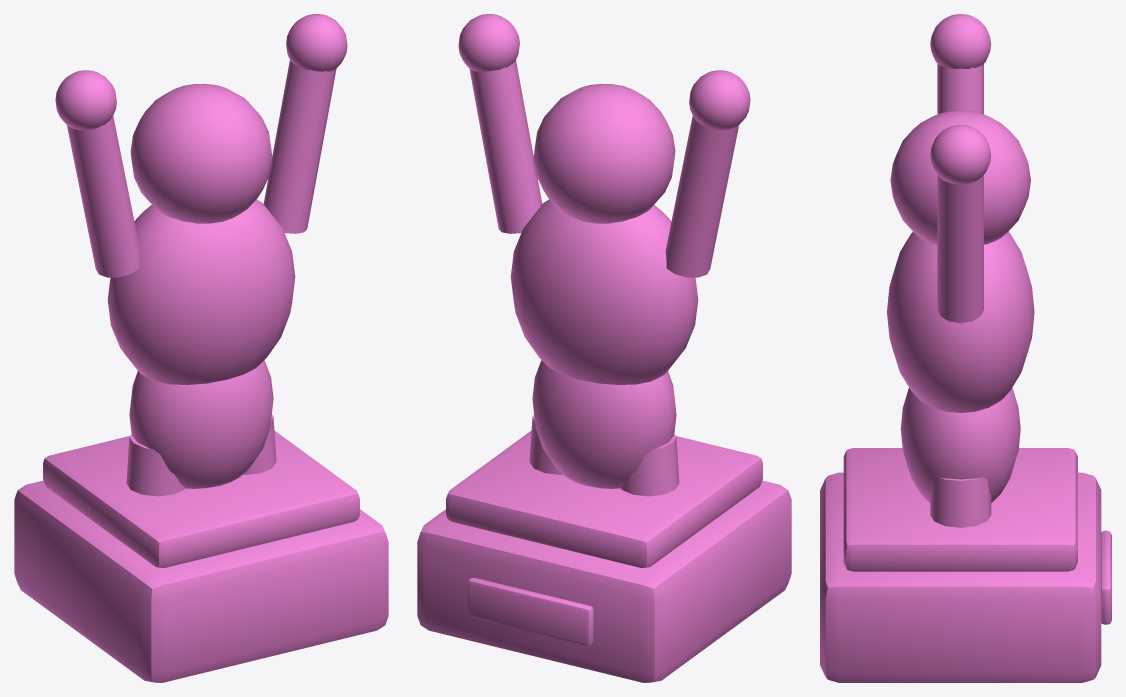
Rendered from Parcel_GoldStatue.fbx.
3 views of the same model, side by side, from view 1: azimuth 30°, elevation 25°; view 2: azimuth 150°, elevation 25°; view 3: azimuth 270°, elevation 25° (orthographic).
Visible parts, largest first — view 1: Parcel; view 2: Parcel; view 3: Parcel.
Part boxes in pixels (left/top/right/bottom): Parcel: left=14, top=14, right=388, bottom=682; Parcel: left=417, top=14, right=791, bottom=682; Parcel: left=820, top=14, right=1111, bottom=682.
Size of the model in its own units: 1.38 by 2.63 by 1.25.
1 material, 1 textured.
